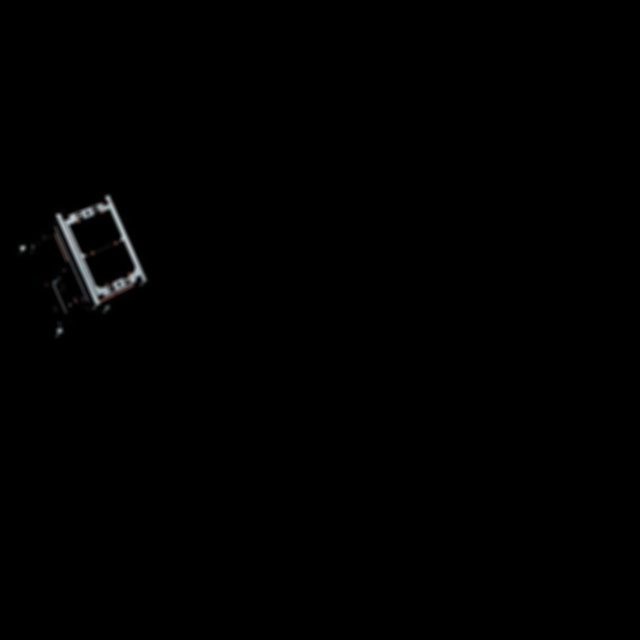medium_debris: (6, 191, 146, 350)
